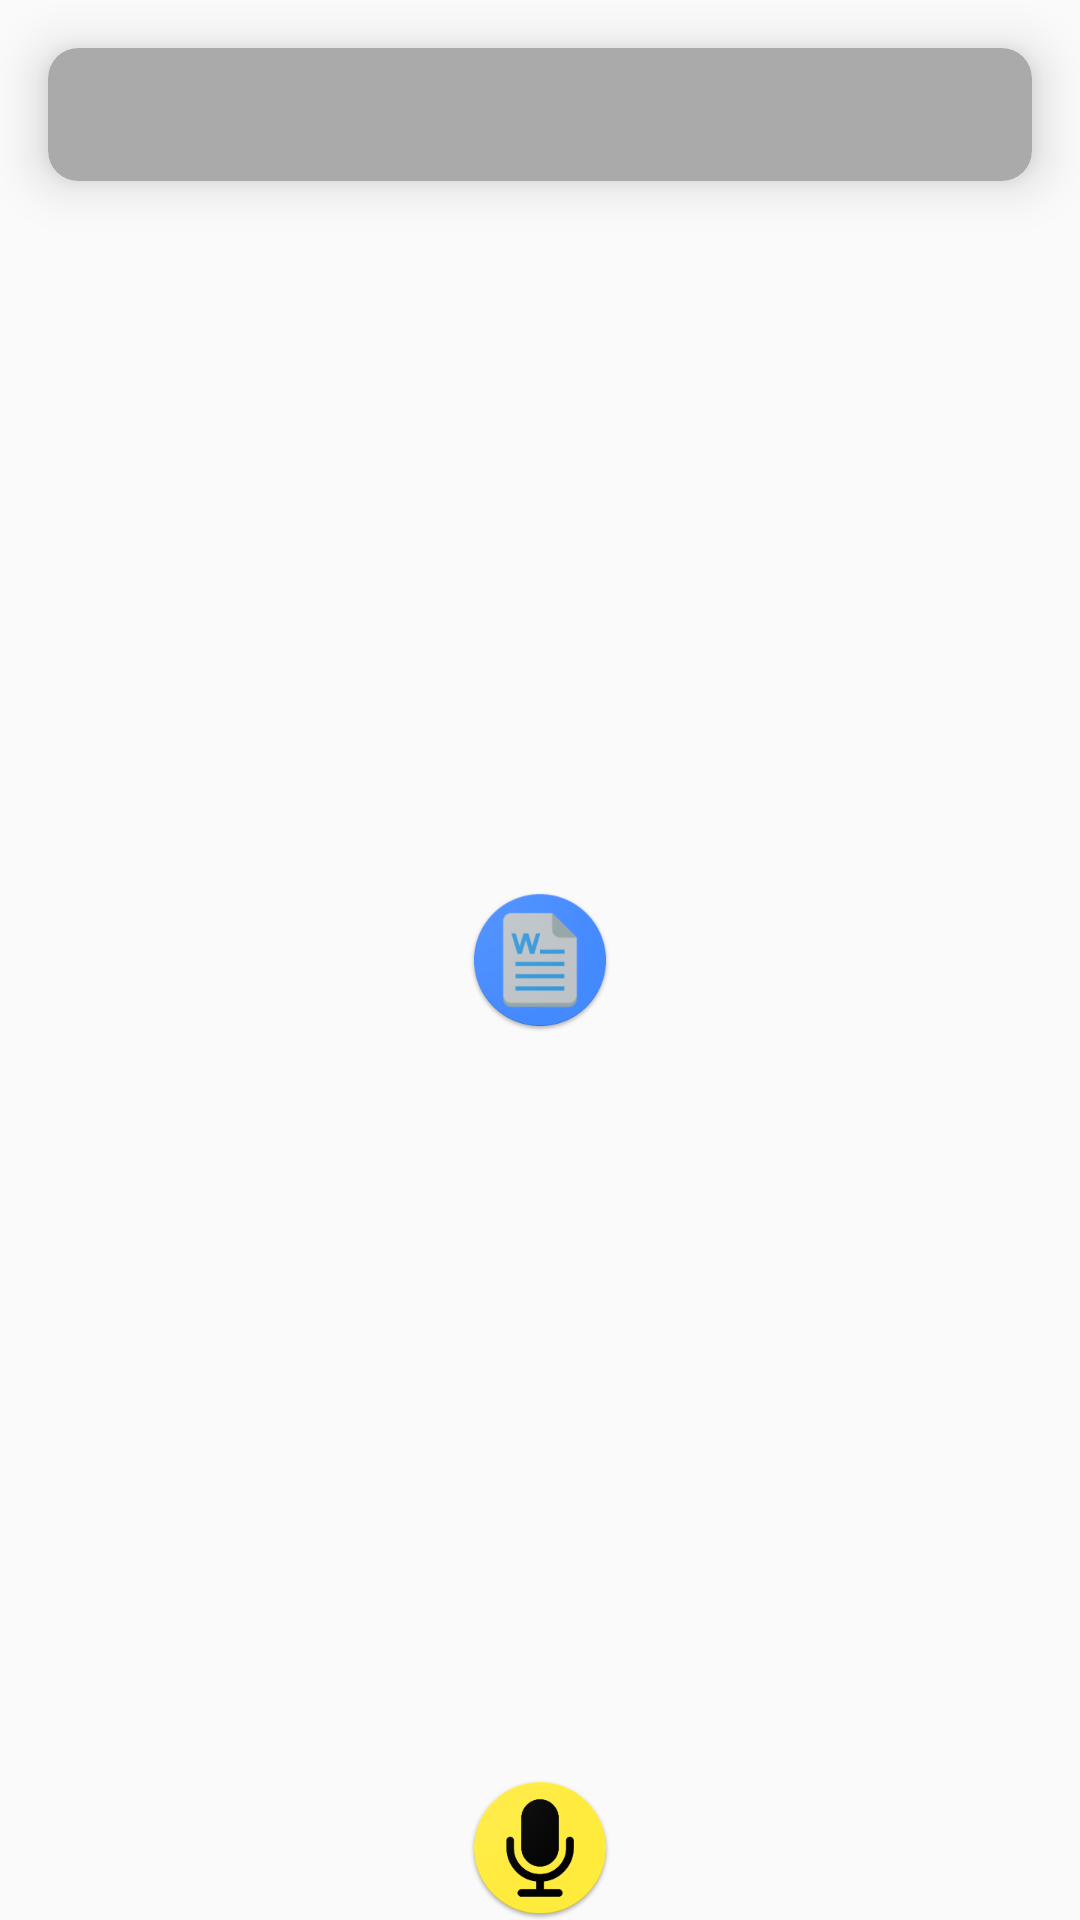

Locate icon controls on the screen. Image size 1080×1920, boxes as (x1, y1, x2, y2).
mic: (473, 1782, 607, 1917)
word: (473, 894, 607, 1029)
